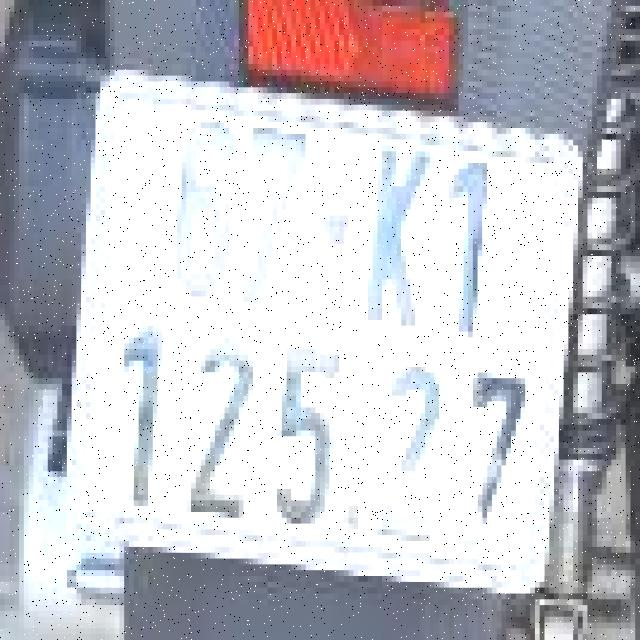1: (112, 303, 165, 512), (442, 146, 494, 338)
2: (179, 317, 260, 527), (370, 358, 447, 556)
5: (272, 332, 349, 530)
6: (165, 107, 236, 306)
7: (458, 352, 535, 556), (241, 111, 313, 314)
K: (360, 122, 428, 332)
